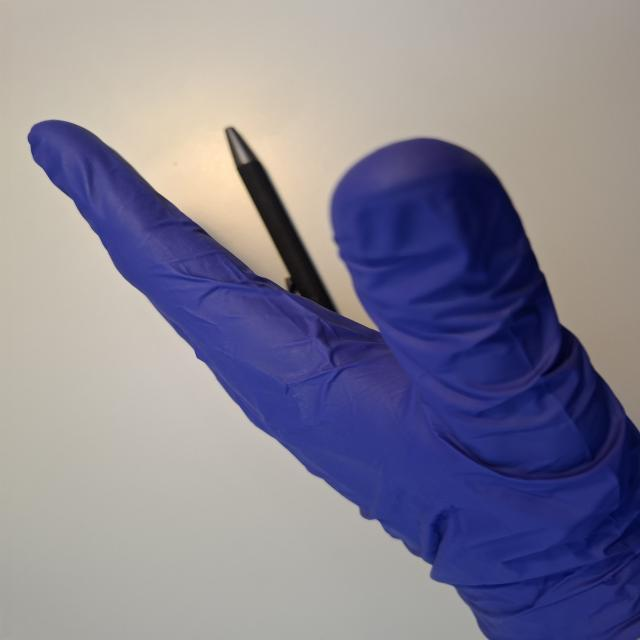glove_on: (23, 116, 640, 639)
